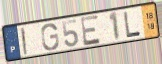1: (108, 10, 120, 43)
5: (61, 18, 80, 48)
E: (79, 14, 103, 48)
G: (40, 22, 60, 52)
I: (20, 26, 28, 56)
L: (122, 11, 142, 39)
